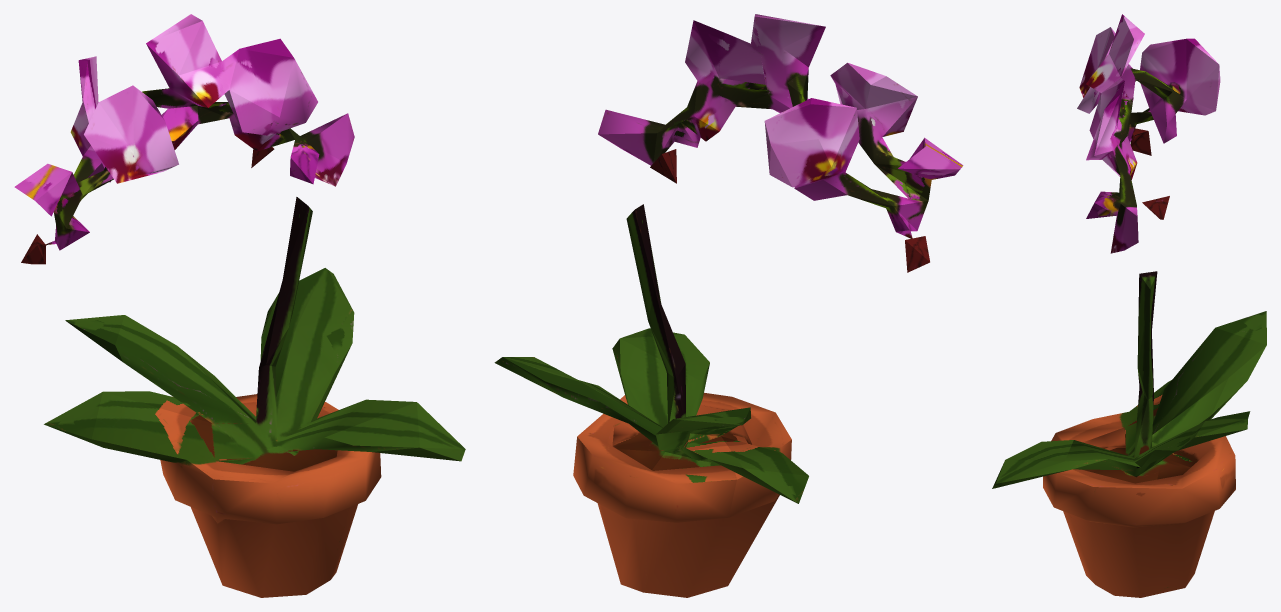
Rendered from pink-orchid.glb.
3 views of the same model, side by side, from view 1: azimuth 30°, elevation 25°; view 2: azimuth 150°, elevation 25°; view 3: azimuth 270°, elevation 25° (orthographic). The views are drawn at different scales.
Visible parts, largest first — view 1: geometry_0.001; view 2: geometry_0.001; view 3: geometry_0.001.
Boxes of the visible parts, left/top/right/bottom form: geometry_0.001: left=14, top=14, right=465, bottom=597; geometry_0.001: left=494, top=14, right=963, bottom=597; geometry_0.001: left=992, top=14, right=1266, bottom=597.
Size of the model in its own units: 0.7076 by 0.9954 by 0.4892.
Materials: 1 (1 with a texture image).
